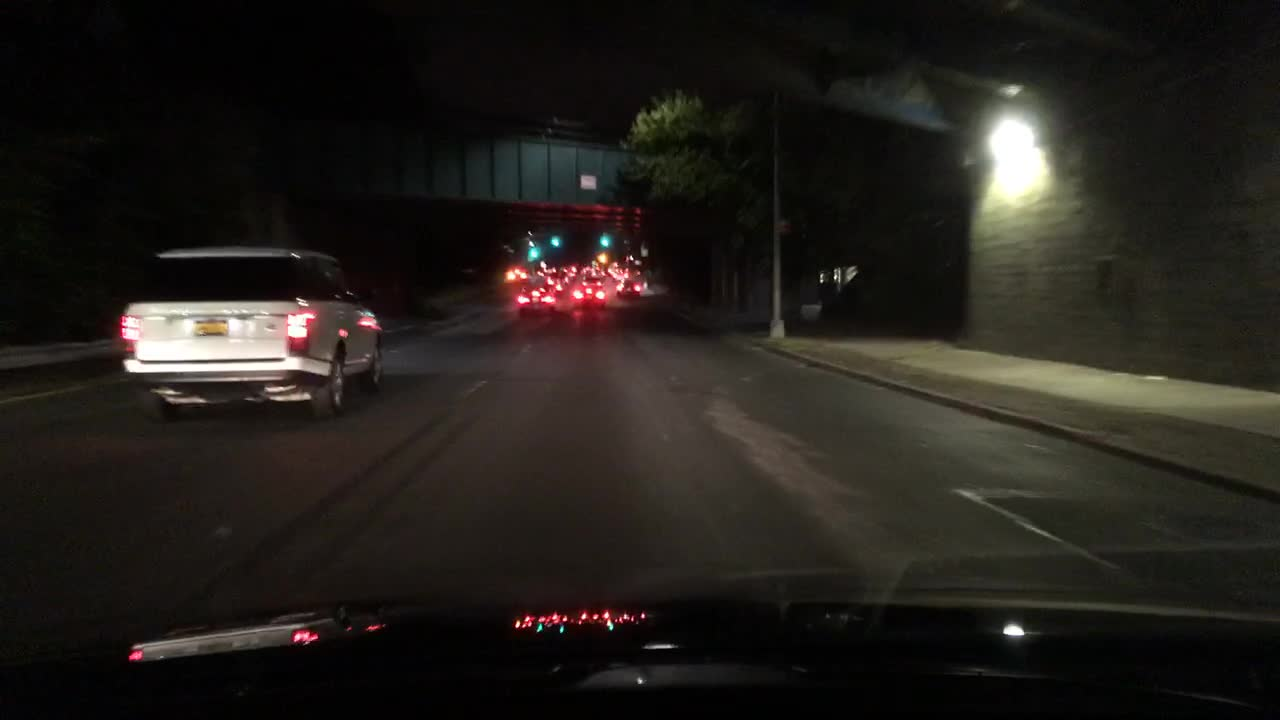car: (119, 248, 382, 416), (516, 284, 557, 316), (571, 281, 608, 307), (614, 276, 646, 298), (503, 268, 531, 290), (544, 273, 566, 290), (583, 264, 604, 281), (613, 269, 628, 281), (609, 263, 622, 272)
traffic light: (527, 246, 539, 259), (599, 236, 613, 247), (550, 236, 560, 246)
traffic sign: (581, 176, 595, 189), (639, 249, 647, 257)
